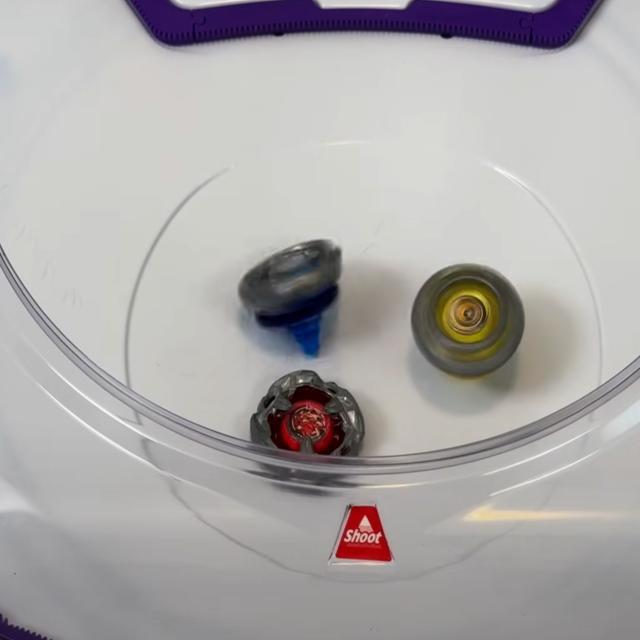Beyblade: (408, 263, 528, 378), (238, 239, 343, 357), (249, 369, 365, 462)
